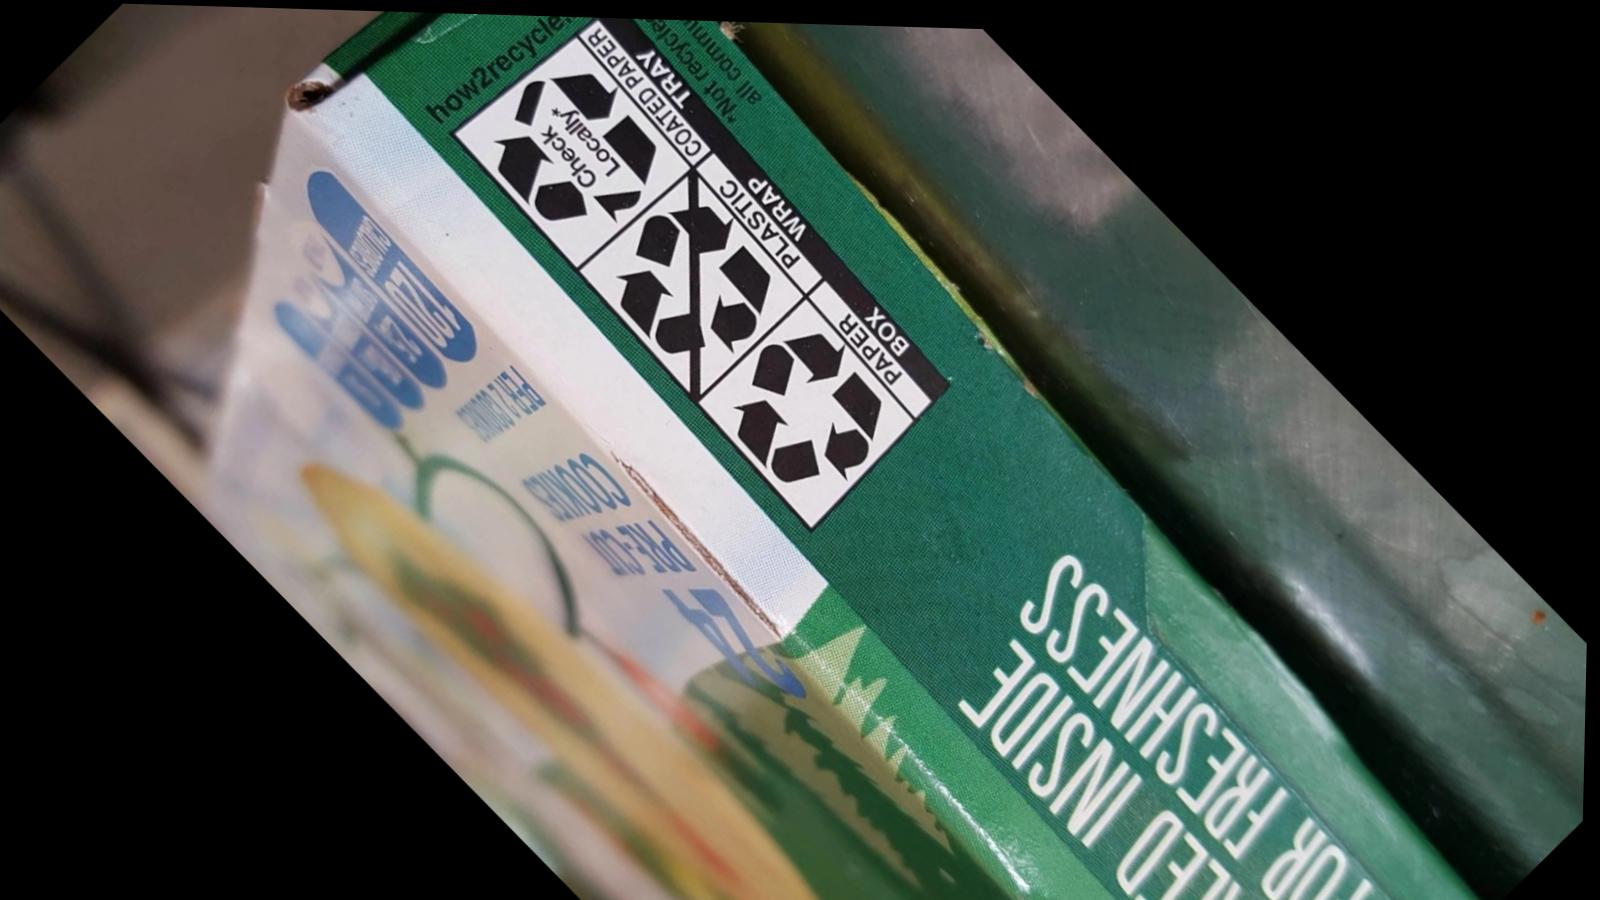cardboard: (12, 1, 1579, 900)
